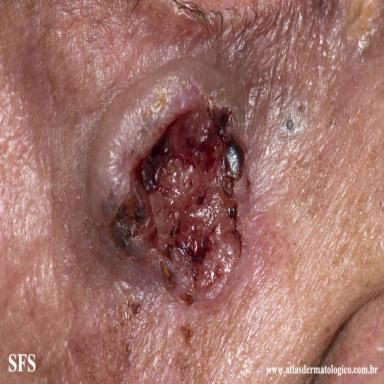basal-cell-carcinoma: (89, 57, 253, 304)
